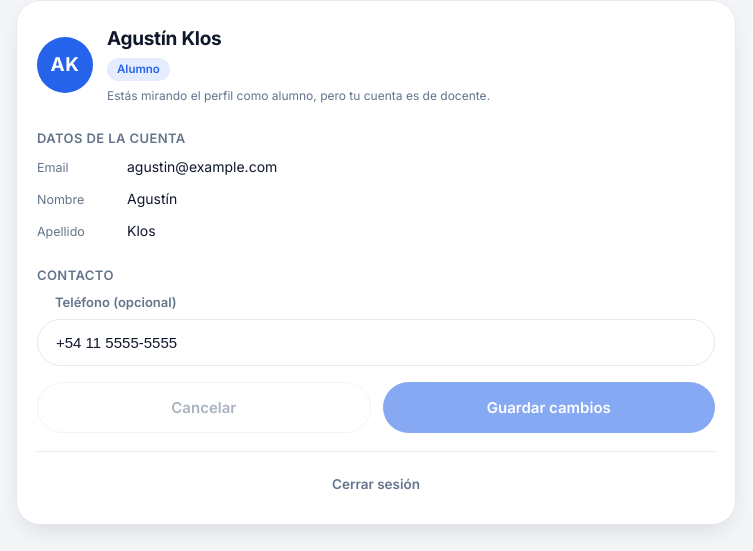
Test: ProfilePage › cancelar descarta los cambios
Replace the text in the field labelled "Teléfono (opcional)" with "+54 9 11 1234-5678" at (376, 342), box [37,318,715,366]
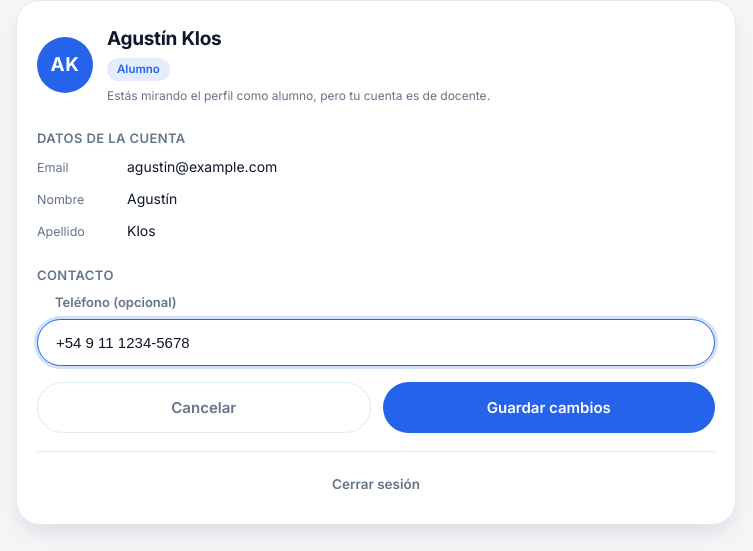
Result: the button "Guardar cambios" is enabled at [382,382,715,432]
Click the button "Cancelar" at (204, 407), box [37,382,370,432]
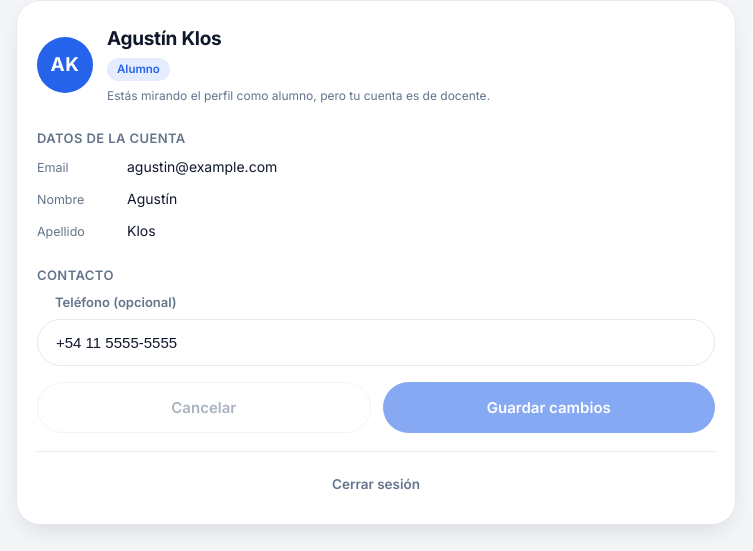
Result: the field labelled "Teléfono (opcional)" holds "+54 11 5555-5555" at [37,318,715,366]
Result: the button "Guardar cambios" is disabled at [382,382,715,432]
